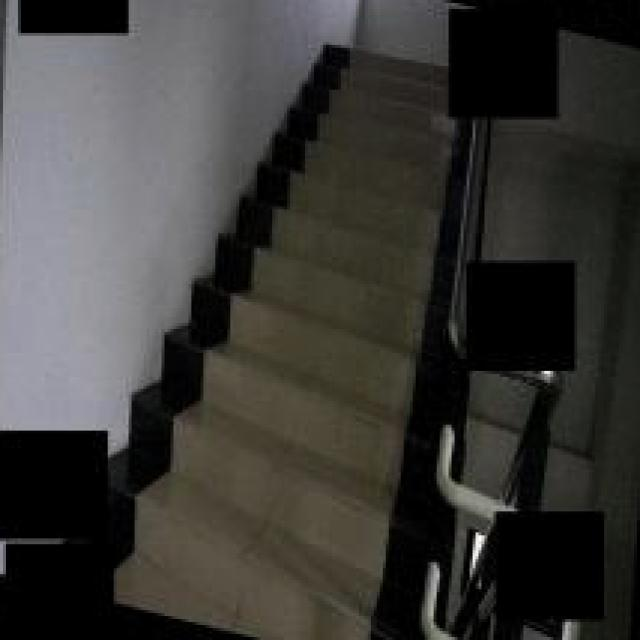upstair: (234, 234, 420, 608)
